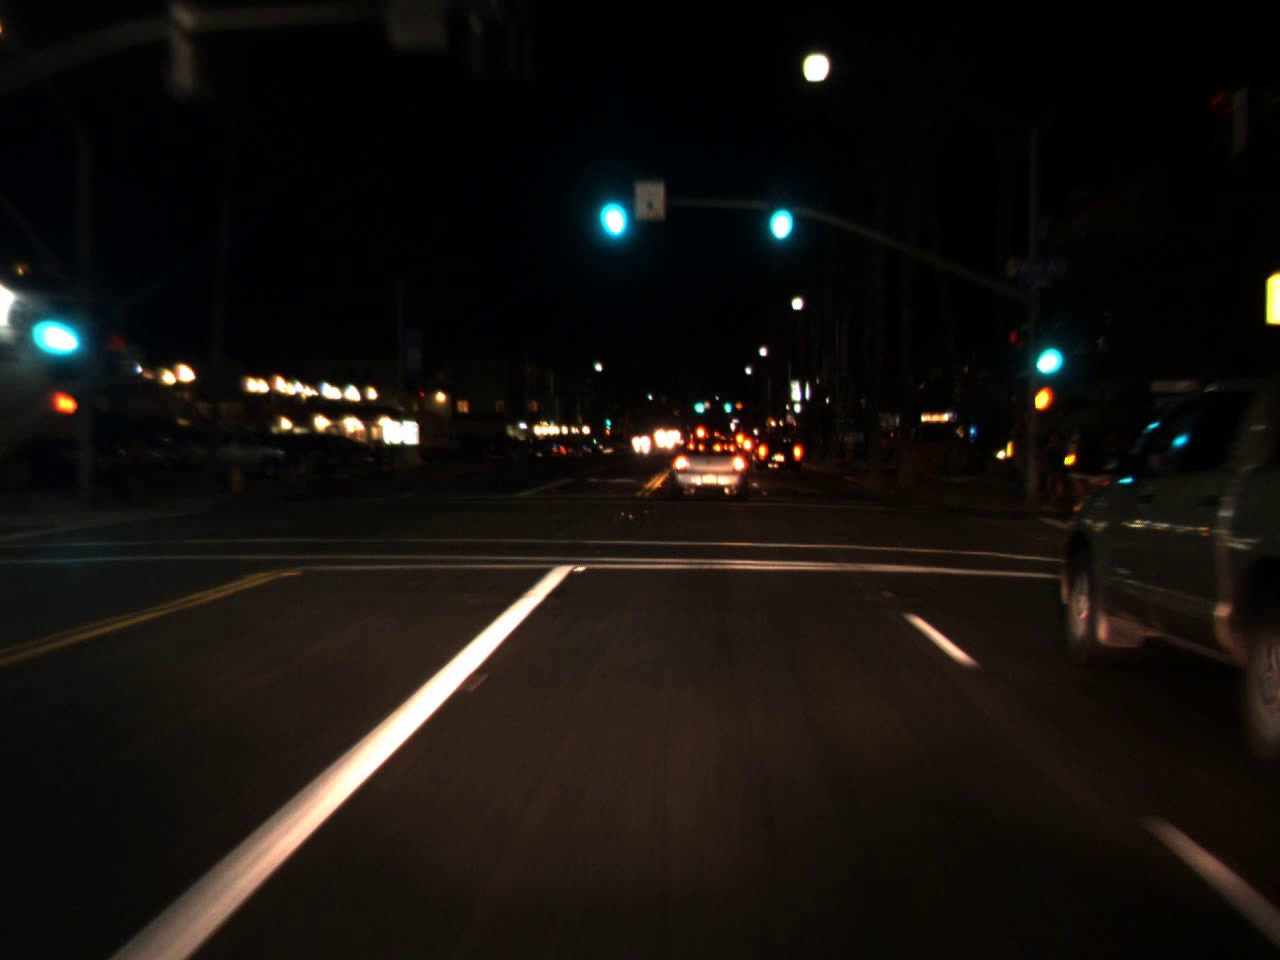go: (28, 287, 80, 365), (589, 159, 632, 246), (1024, 311, 1069, 386), (759, 170, 798, 251), (690, 391, 706, 415), (720, 390, 732, 417), (604, 408, 611, 432)
